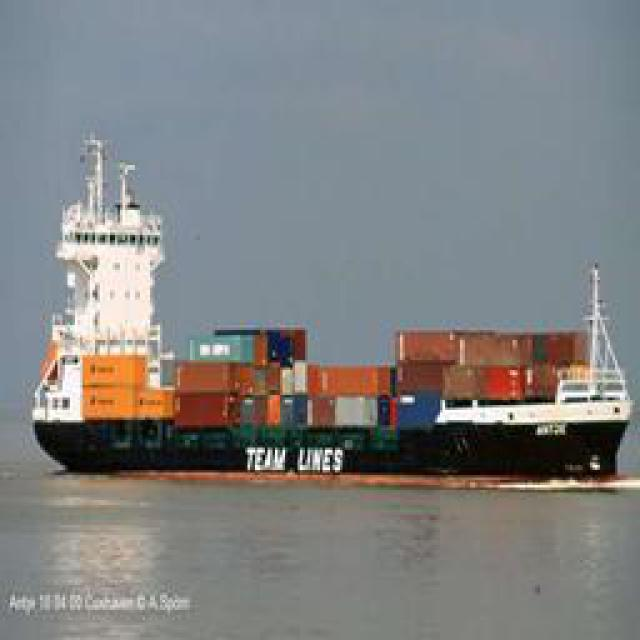Ship: (15, 311, 630, 479)
